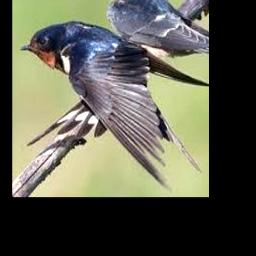Swallow: (20, 21, 209, 189), (107, 0, 209, 52)
